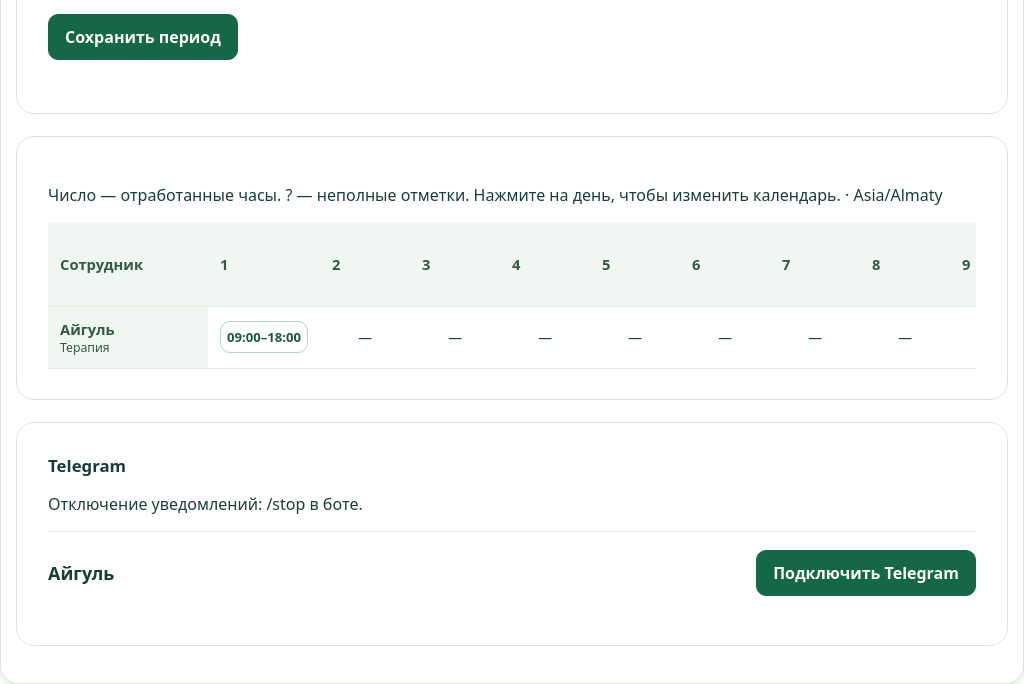
Test: explains missing Telegram setup without pretending delivery is active
(page scrolled)
Click the button "Подключить Telegram" at (866, 573), box [756,550,976,596]
(page scrolled)
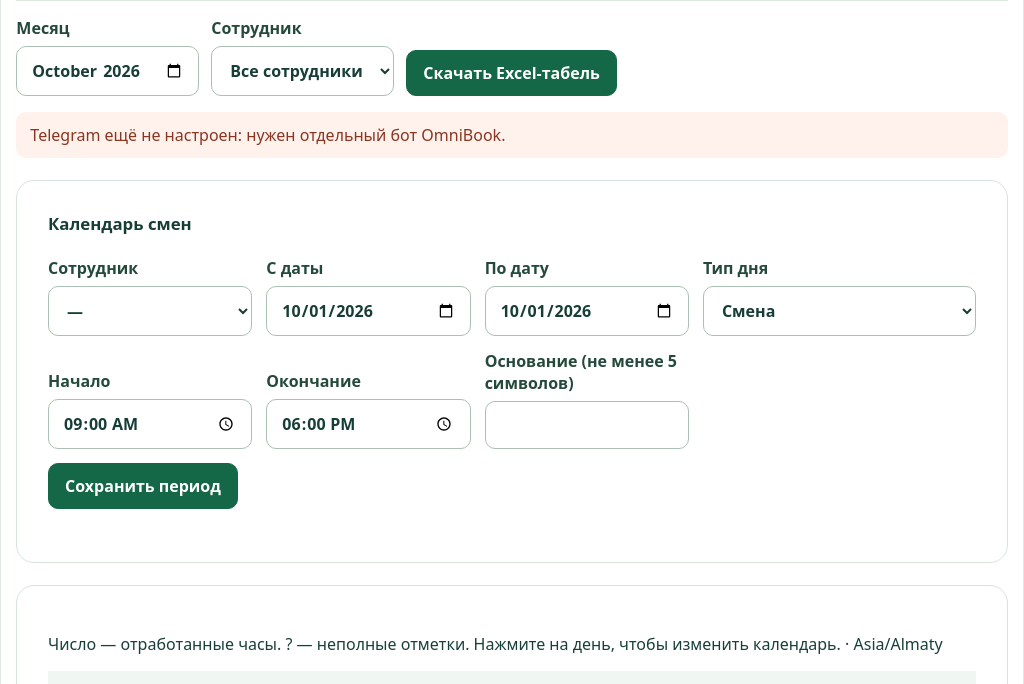
Result: the message reads "Telegram ещё не настроен: нужен отдельный бот OmniBook." at [30,124,506,146]
